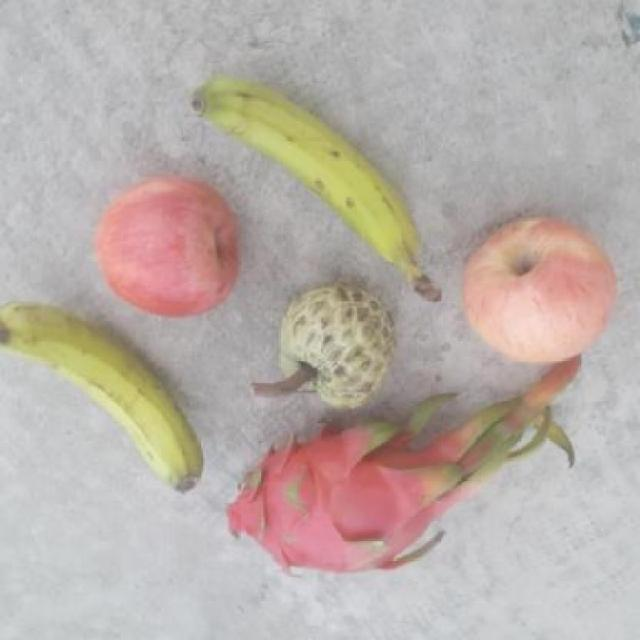apple: (452, 211, 622, 364), (88, 176, 243, 319)
banana: (184, 73, 444, 304), (1, 302, 204, 493)
dragon fruit: (224, 409, 462, 576)
sugar apple: (258, 283, 397, 414)
